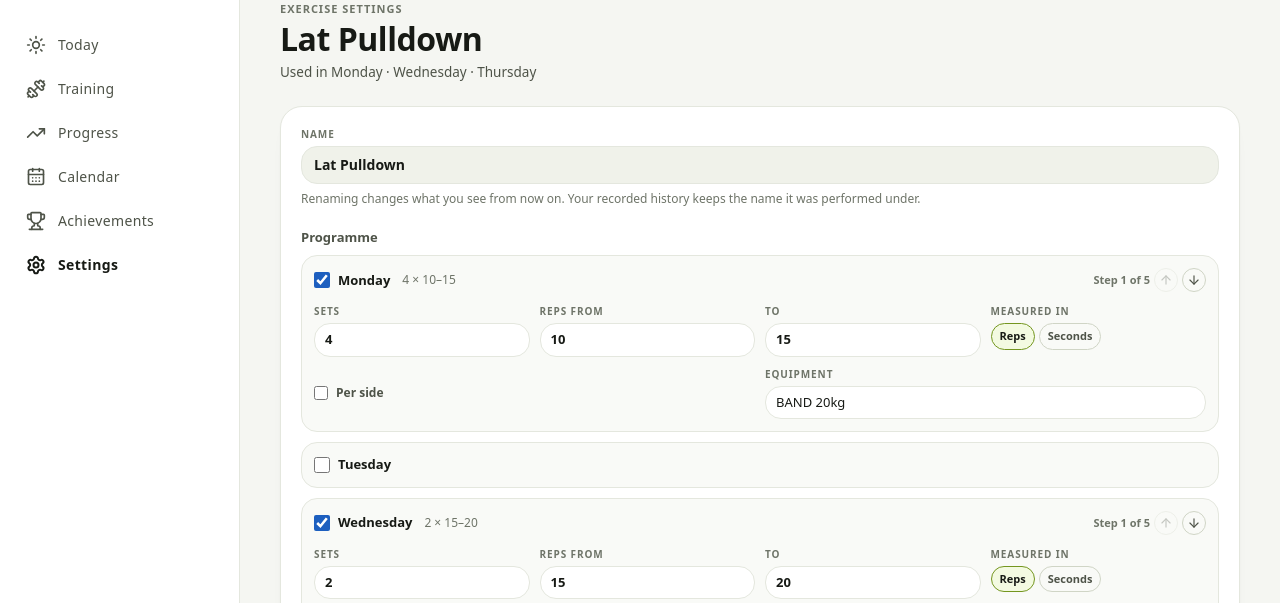
it: unsaved changes and validity › says there are unsaved changes, and can discard them
Replace the text in the field labelled "Name" with "Edited": (760, 165) [301,146,1219,184]
(page scrolled)
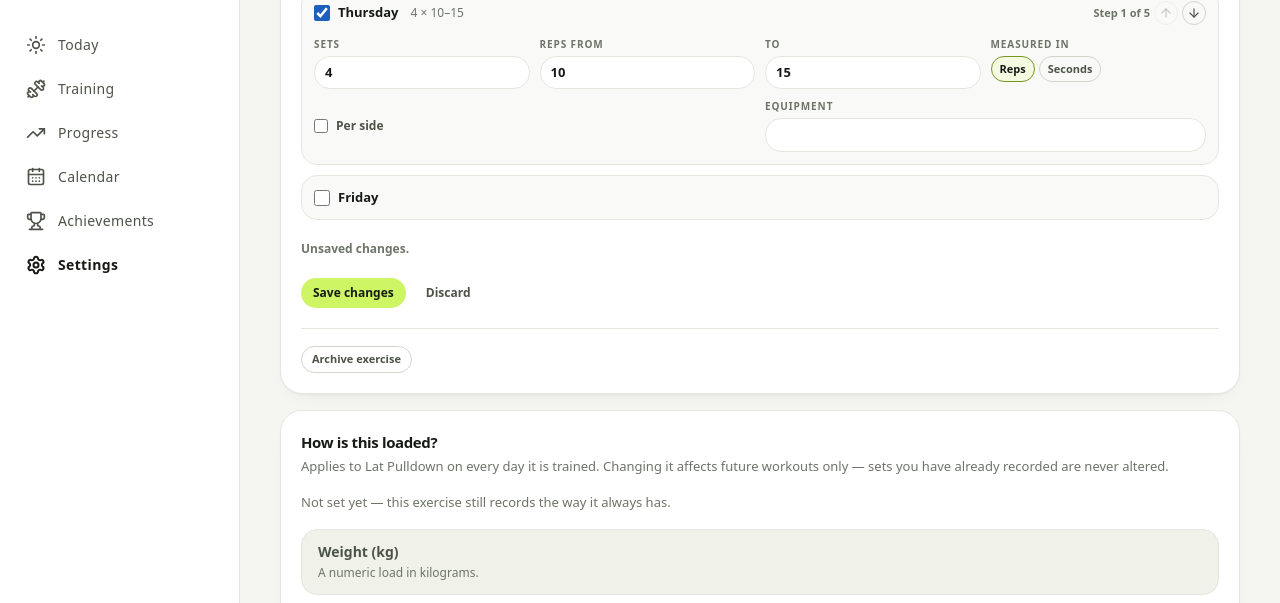
Expected: the text "Unsaved changes." is shown, [301,240,409,258]
Click the button "Discard": (448, 294) [414,278,482,308]
(page scrolled)
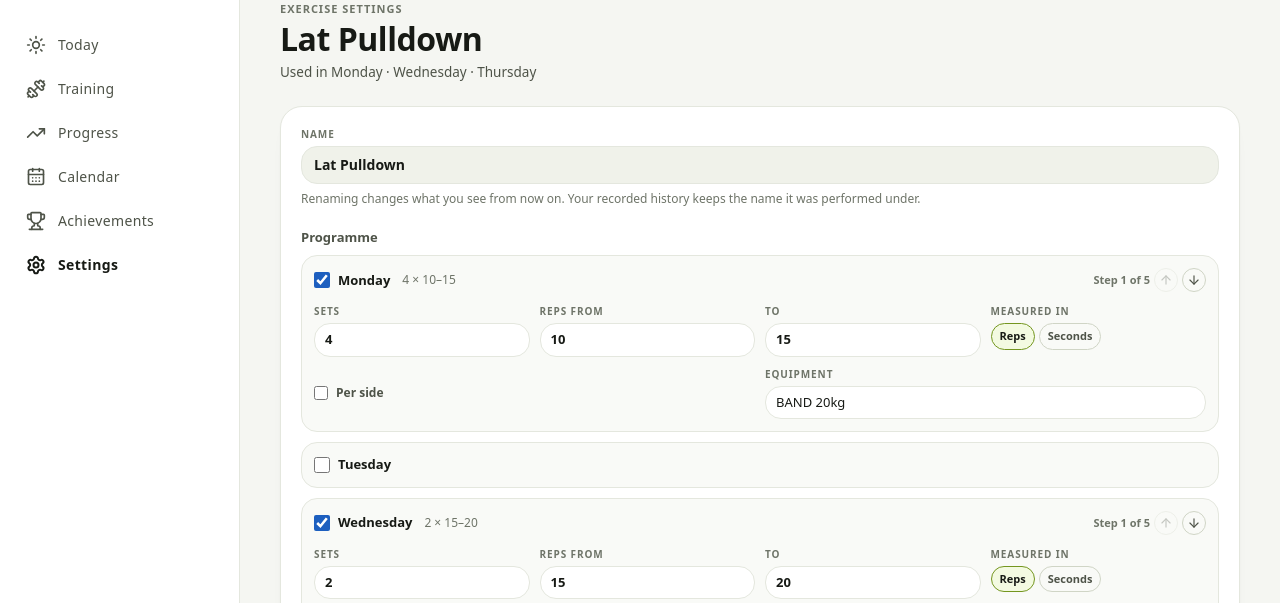
Expected: the field labelled "Name" holds "Lat Pulldown", [301,146,1219,184]
